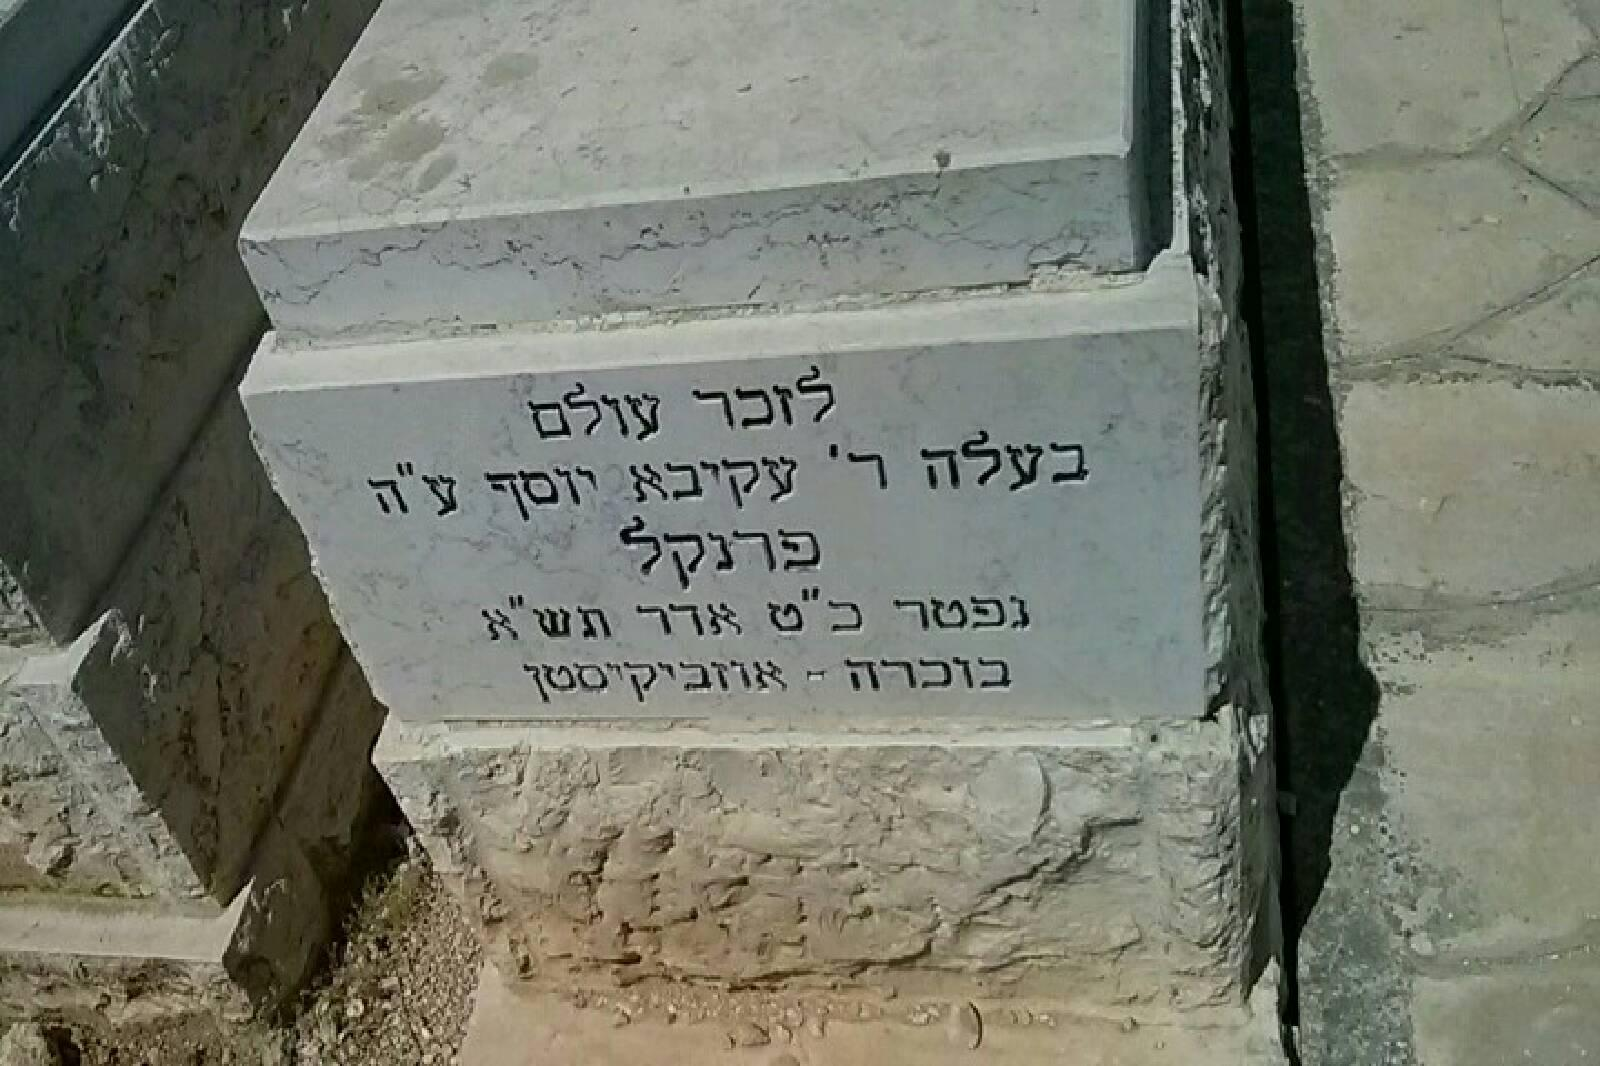vault: (25, 37, 1379, 1043)
